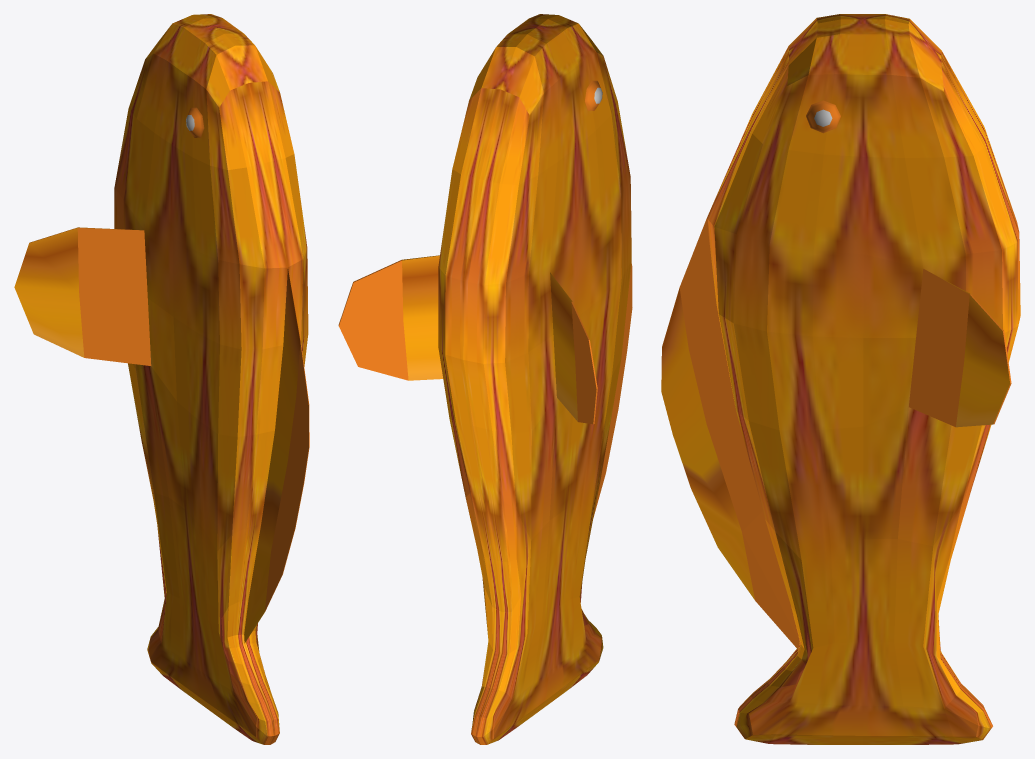
File: fish.obj
3 renders of one model, left to right at view 1: azimuth 30°, elevation 25°; view 2: azimuth 150°, elevation 25°; view 3: azimuth 270°, elevation 25°, orthographic. The views are drawn at different scales.
Parts seen in each view (by area): view 1: obj1; view 2: obj1; view 3: obj1.
Boxes of the visible parts, <box> form: obj1: <box>14,14,309,744</box>; obj1: <box>338,14,632,744</box>; obj1: <box>661,14,1020,744</box>.
Bounding box in the file's own units: 8.05 × 20.21 × 9.09.
